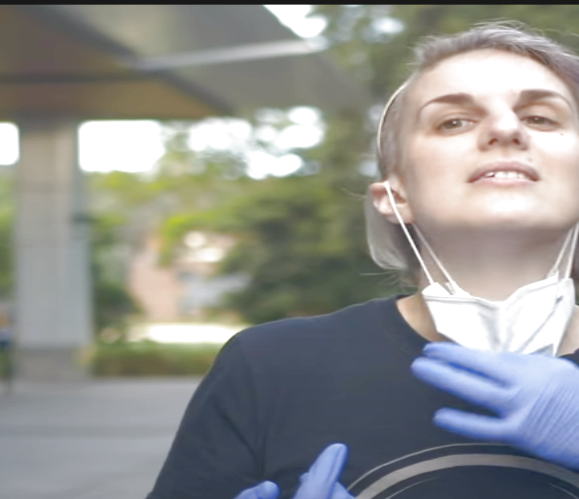mask_weared_incorrect: (370, 19, 578, 348)
